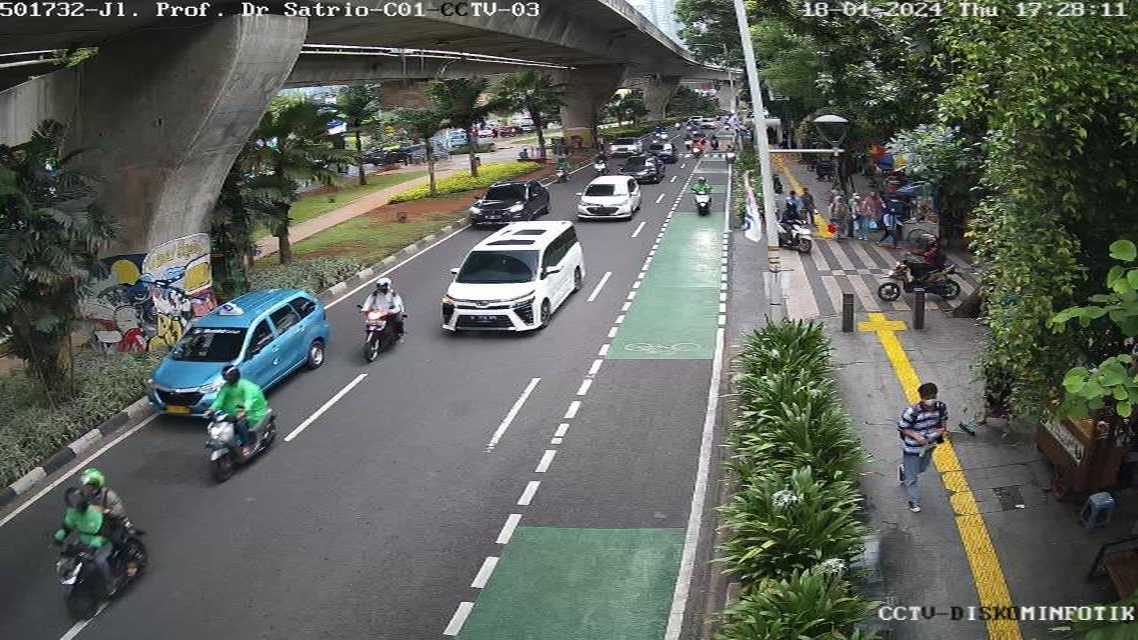Gerobak: (900, 208, 941, 249)
